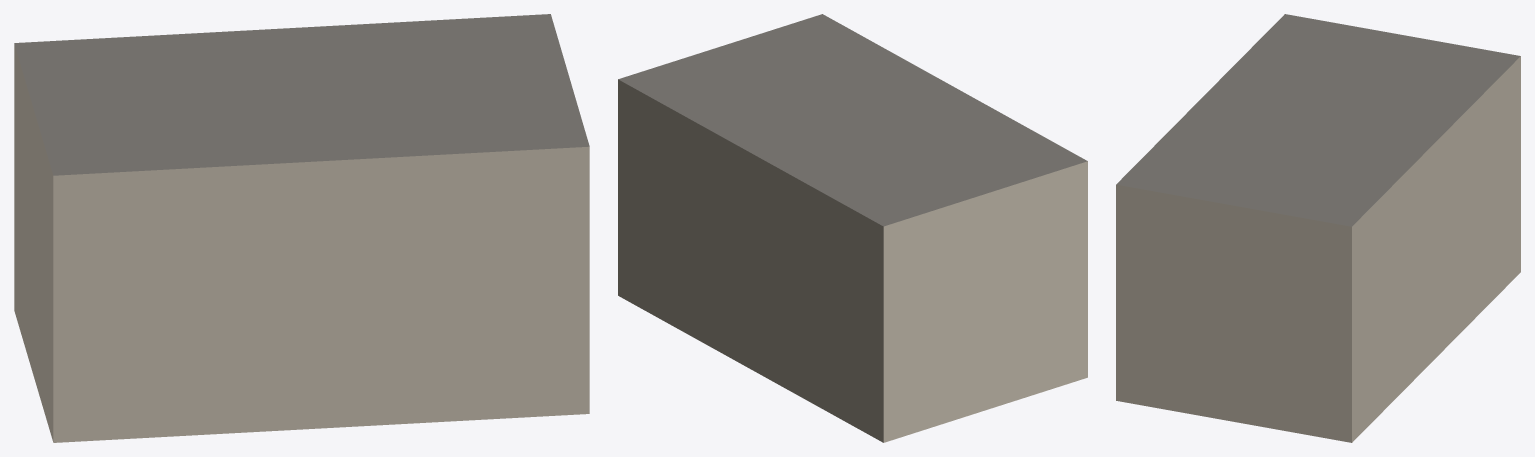
3 renders of one model, left to right at view 1: azimuth 30°, elevation 25°; view 2: azimuth 150°, elevation 25°; view 3: azimuth 270°, elevation 25°, orthographic. The views are drawn at different scales.
Visible parts, largest first — view 1: HP-w1481649281; view 2: HP-w1481649281; view 3: HP-w1481649281.
Part boxes in pixels (left/top/right/bottom): HP-w1481649281: left=14, top=14, right=589, bottom=442; HP-w1481649281: left=618, top=14, right=1087, bottom=442; HP-w1481649281: left=1116, top=14, right=1520, bottom=442.
Size of the model in its own units: 37.98 by 18 by 30.53.
